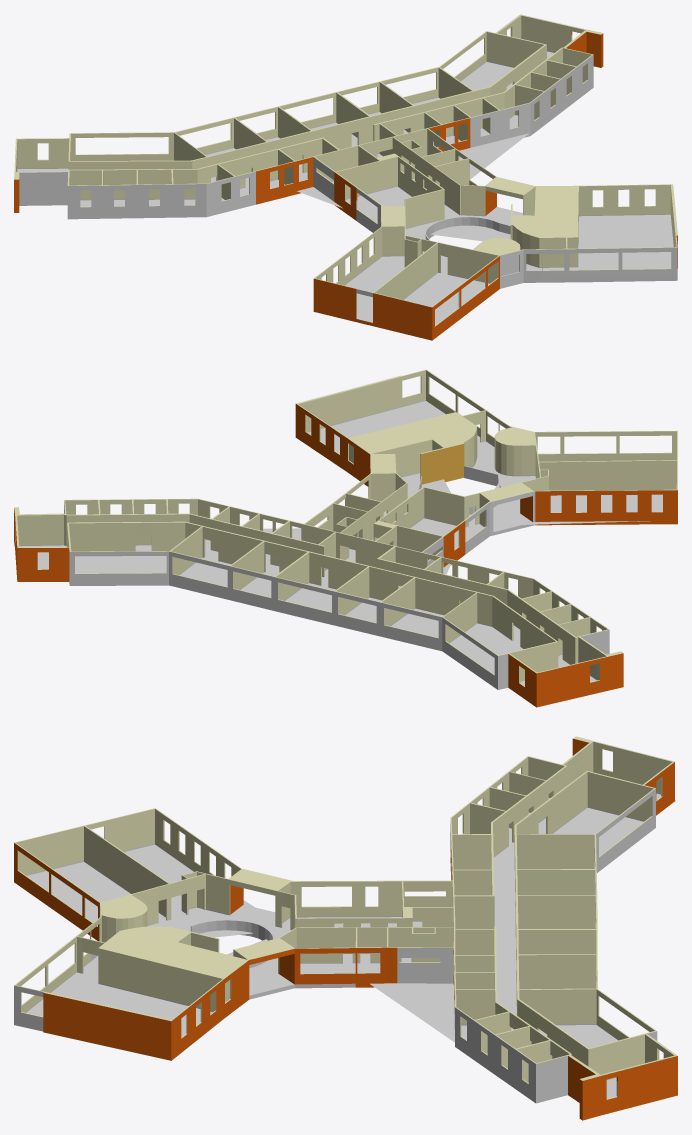
The model's file is c3_seg2.fbx.
3 views of the same model, one above another, from view 1: azimuth 30°, elevation 25°; view 2: azimuth 150°, elevation 25°; view 3: azimuth 270°, elevation 25° (orthographic). The views are drawn at different scales.
Parts seen in each view (by area): view 1: c3seg; view 2: c3seg; view 3: c3seg.
Boxes of the visible parts, bbox=[...] form: c3seg: bbox=[14, 14, 677, 340]; c3seg: bbox=[14, 369, 677, 707]; c3seg: bbox=[14, 736, 677, 1120].
Bounding box in the file's own units: 7248 × 388 × 5901.
